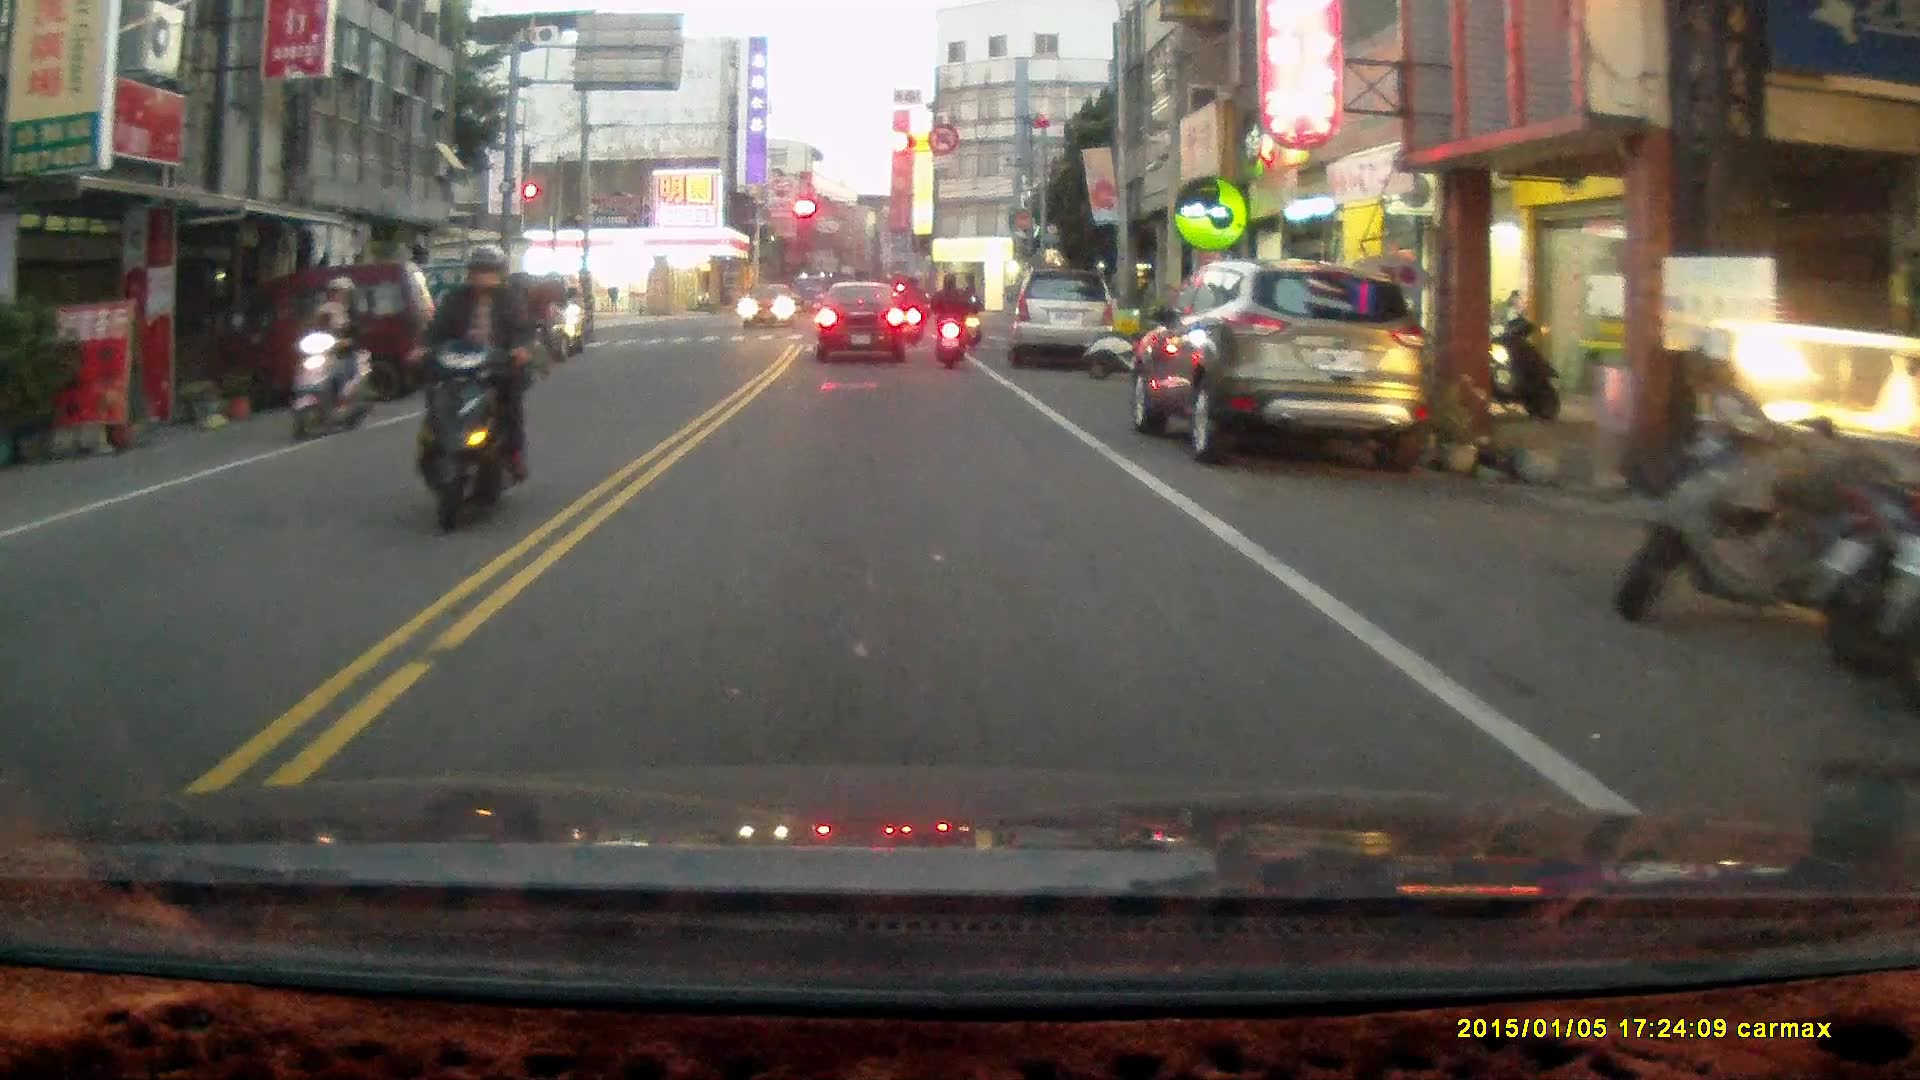rider: (400, 241, 536, 531), (286, 276, 375, 441), (508, 269, 551, 388), (923, 268, 969, 369), (897, 269, 929, 341), (957, 276, 983, 349)
vehicle: (1138, 259, 1425, 471), (208, 263, 446, 410), (1010, 271, 1119, 372), (816, 281, 911, 359), (734, 275, 794, 328)
